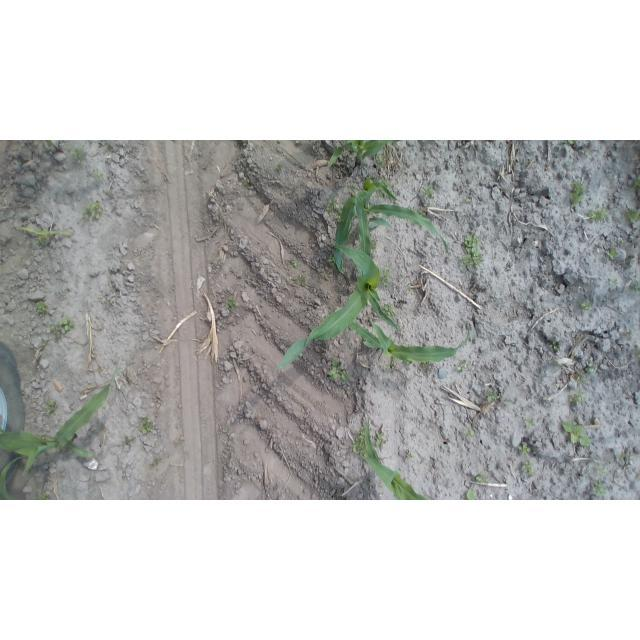Maize: (274, 192, 400, 372), (1, 362, 119, 483), (334, 175, 452, 265), (340, 314, 469, 369), (350, 418, 430, 500), (323, 140, 397, 172)
Weeds: (22, 225, 74, 247), (460, 233, 485, 270), (564, 421, 591, 448), (50, 316, 76, 341), (326, 358, 350, 383), (79, 200, 105, 223), (569, 179, 588, 209), (586, 204, 610, 224), (353, 429, 368, 459), (590, 478, 608, 498), (326, 199, 341, 222), (70, 147, 89, 165), (41, 397, 59, 415), (32, 299, 51, 316), (138, 415, 154, 435), (289, 271, 307, 288), (484, 388, 501, 405), (569, 391, 587, 407), (521, 459, 536, 477), (421, 184, 436, 202), (373, 431, 388, 448), (626, 207, 639, 226), (380, 266, 392, 286), (517, 441, 533, 456), (381, 303, 396, 318), (373, 153, 389, 167), (224, 297, 238, 312), (580, 300, 596, 313), (606, 247, 620, 261), (455, 359, 469, 373), (475, 471, 489, 485), (146, 458, 162, 470), (523, 417, 537, 430), (586, 362, 596, 378), (121, 436, 134, 448), (630, 176, 638, 195), (463, 428, 475, 440), (90, 172, 103, 183), (549, 341, 561, 352), (387, 360, 398, 372), (377, 189, 387, 202), (617, 452, 628, 463), (595, 465, 607, 475), (219, 426, 231, 436), (558, 140, 578, 146), (623, 329, 633, 340), (405, 452, 415, 463), (503, 400, 513, 411), (103, 144, 115, 153), (321, 273, 333, 282), (289, 258, 299, 268), (609, 277, 619, 287), (421, 363, 432, 372), (631, 281, 639, 293), (370, 238, 377, 251), (38, 492, 51, 499), (328, 256, 337, 266), (460, 197, 470, 206), (405, 285, 414, 295), (276, 163, 284, 172), (619, 238, 627, 246), (240, 178, 248, 186)
